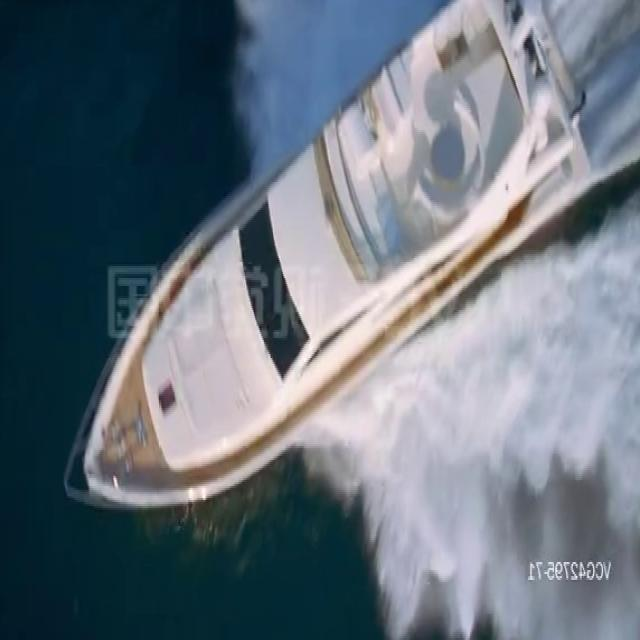houseboat: (59, 0, 602, 504)
